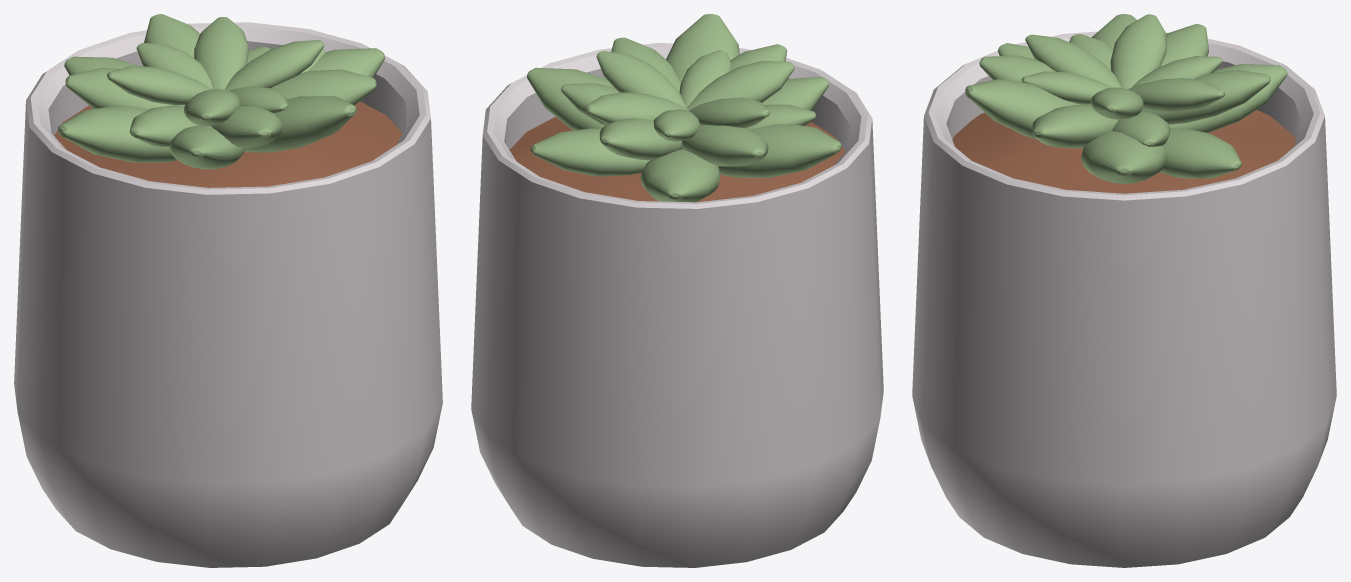
Rendered from PotPlant.fbx.
3 renders of one model, left to right at view 1: azimuth 30°, elevation 25°; view 2: azimuth 150°, elevation 25°; view 3: azimuth 270°, elevation 25°, orthographic. The views are drawn at different scales.
Visible parts, largest first — view 1: pot, Succulent_Plant, dirt; view 2: pot, Succulent_Plant, dirt; view 3: pot, Succulent_Plant, dirt.
Part boxes in pixels (x1,y1,x2,y2): pot: (14,22,442,567); Succulent_Plant: (57,14,384,169); dirt: (54,101,402,187); pot: (471,43,883,567); Succulent_Plant: (527,14,841,202); dirt: (509,116,845,202); pot: (912,31,1336,567); Succulent_Plant: (965,14,1287,183); dirt: (952,110,1296,193).
Bounding box in the file's own units: 4.08 × 4.57 × 4.08.
